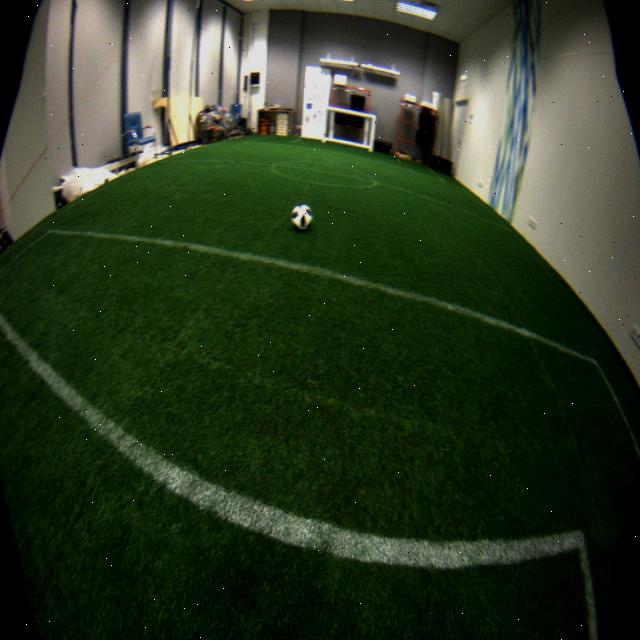ball: (291, 203, 312, 232)
goalpost: (369, 114, 377, 152), (321, 107, 329, 141)
